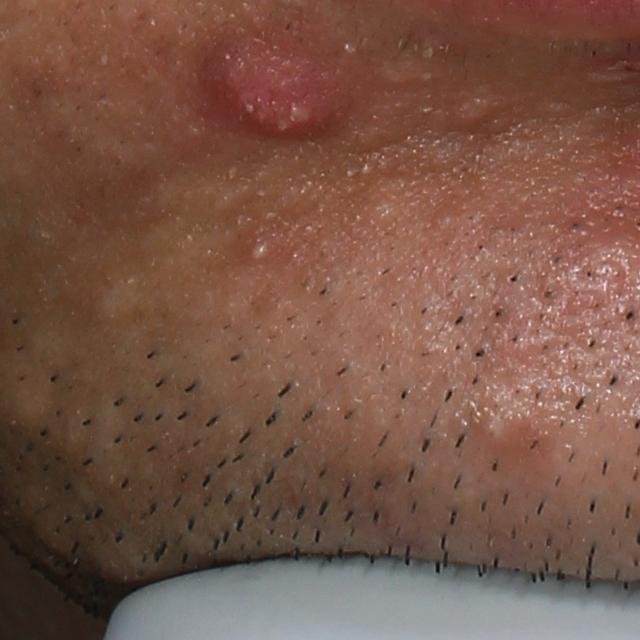hypertrophic_scar: (447, 83, 565, 128), (377, 43, 470, 80), (96, 271, 152, 321)
nodule: (197, 36, 367, 153)
pustule: (467, 400, 530, 463), (237, 225, 286, 269)
